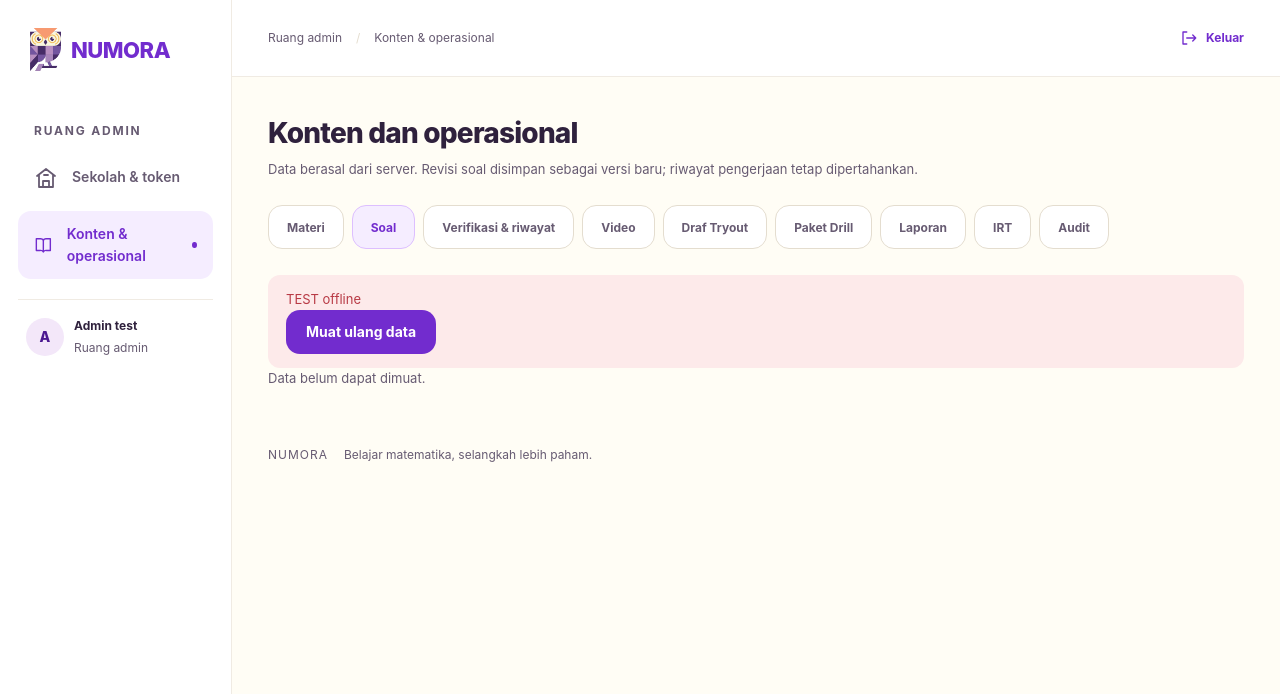
Test: Admin content UI › shows a recoverable network error and retries loading
Expected: the text "TEST offline" is shown, [286,291,361,307]
Click the button "Muat ulang data" at (361, 332), box [286,310,436,354]
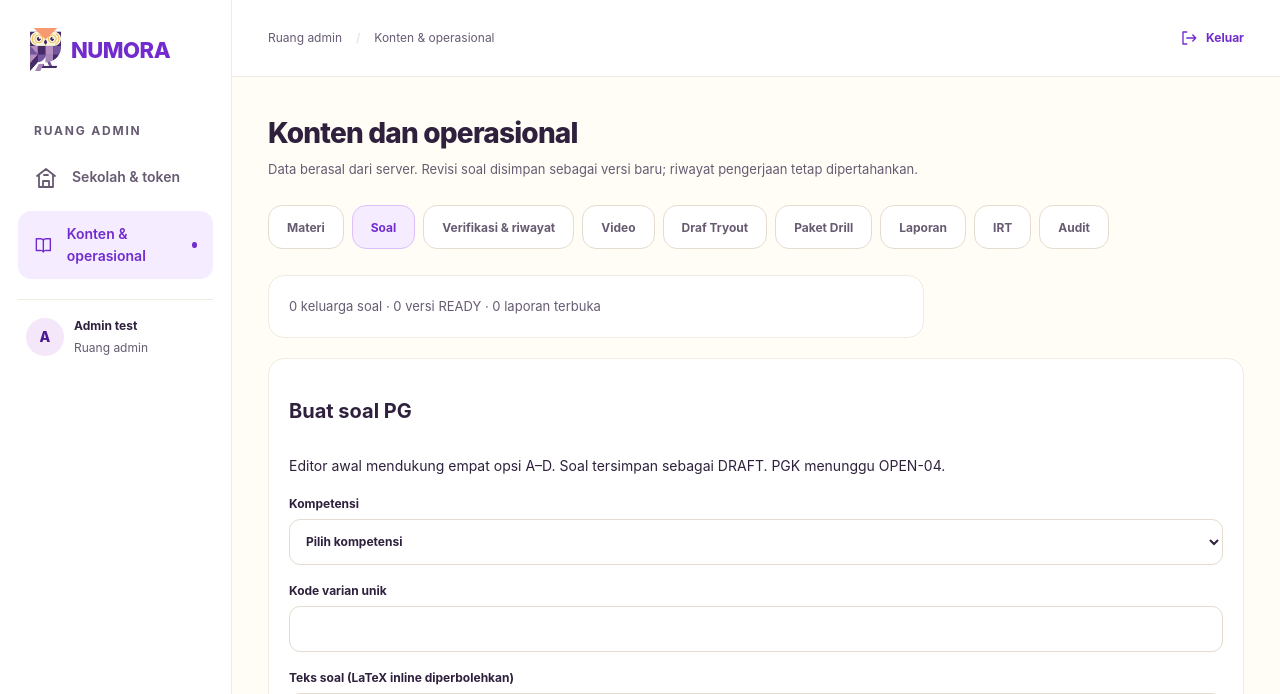
Result: the dropdown labelled "Kompetensi" is shown at [289,519,1223,565]
